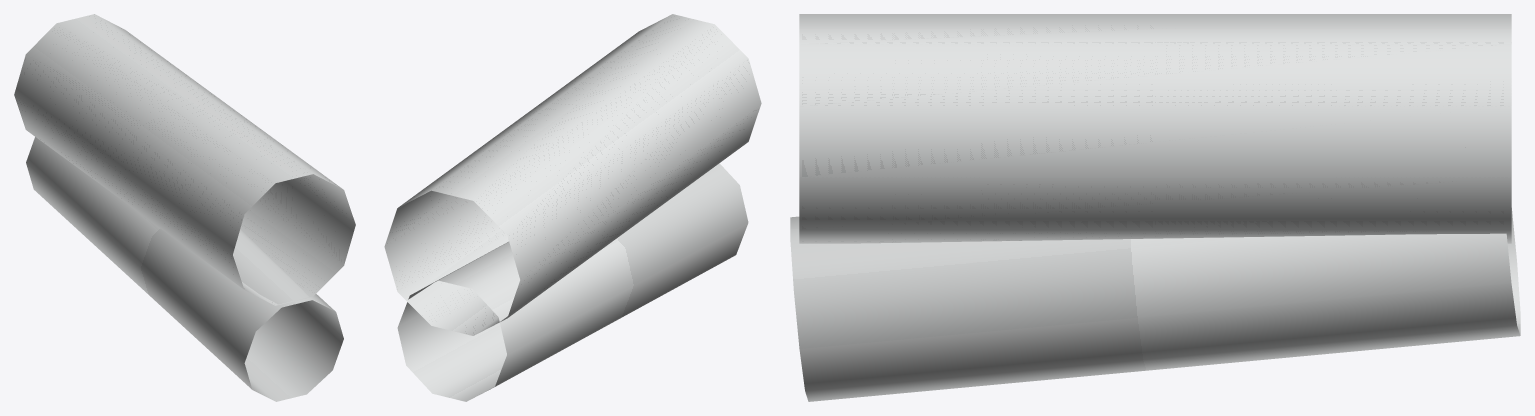
File: trusssignalarm_level12_c16.obj
3 views of the same model, side by side, from view 1: azimuth 30°, elevation 25°; view 2: azimuth 150°, elevation 25°; view 3: azimuth 270°, elevation 25° (orthographic). The views are drawn at different scales.
Visible parts, largest first — view 1: trusssignalarm_level12_c16; view 2: trusssignalarm_level12_c16; view 3: trusssignalarm_level12_c16.
Part boxes in pixels (left/top/right/bottom): trusssignalarm_level12_c16: left=14, top=14, right=355, bottom=401; trusssignalarm_level12_c16: left=384, top=14, right=761, bottom=401; trusssignalarm_level12_c16: left=790, top=14, right=1520, bottom=401.
Size of the model in its own units: 0.325 by 0.5589 by 1.03.
